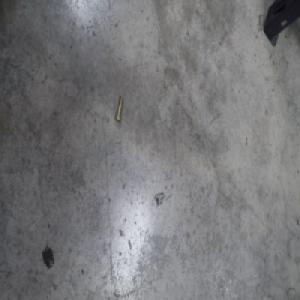Bolt: (114, 95, 124, 124)
